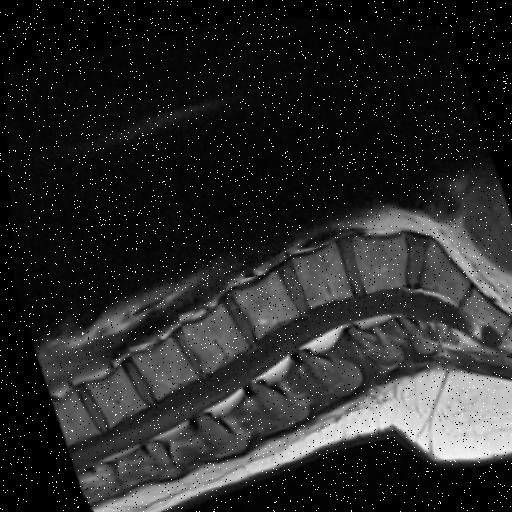L1: (127, 334, 193, 395)
L2: (178, 300, 244, 370)
L3: (229, 267, 295, 333)
L4: (289, 237, 349, 302)
L5: (352, 228, 404, 288)
S1: (418, 237, 467, 294)
